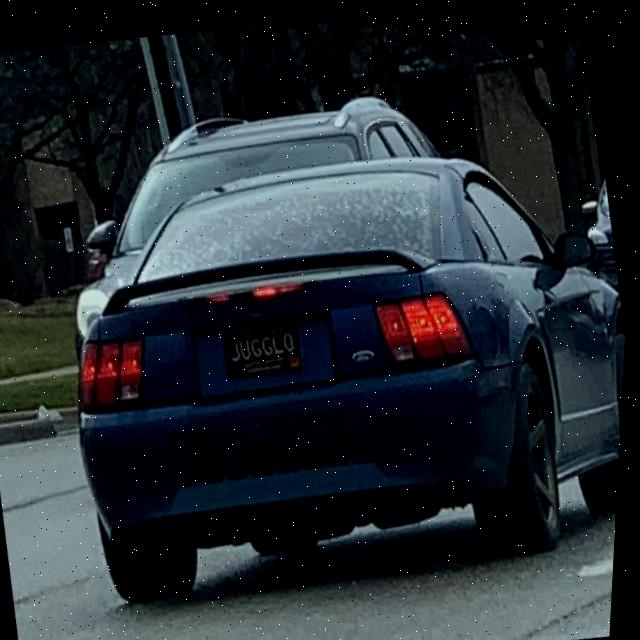LicensePlate: (226, 313, 305, 375)
